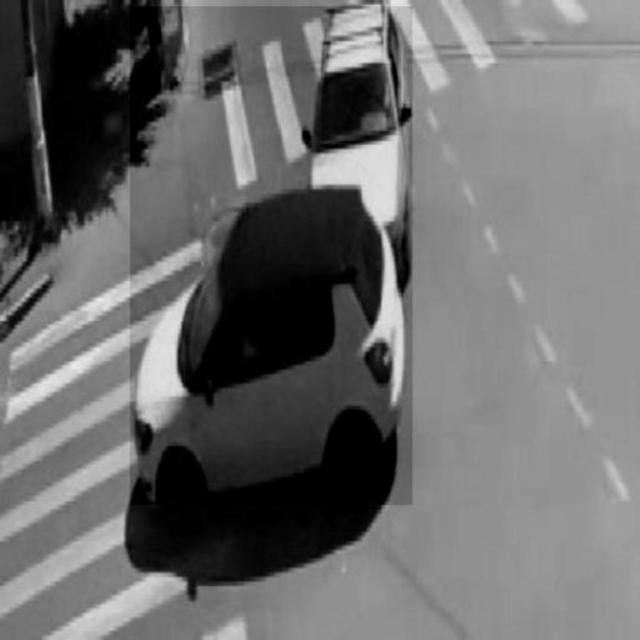accident: (130, 6, 412, 504)
